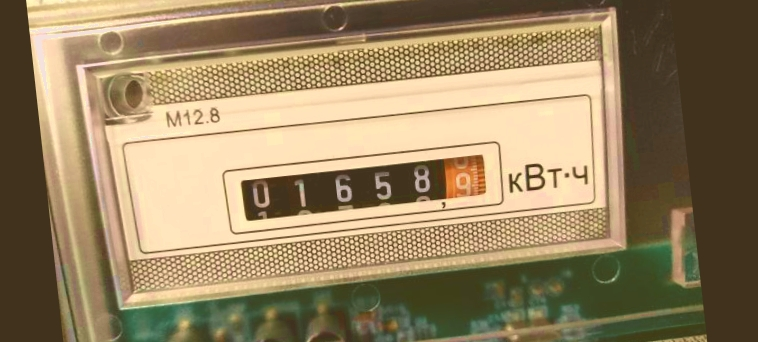0: (248, 175, 273, 209)
1: (292, 175, 309, 207)
5: (372, 167, 394, 201)
6: (332, 170, 355, 203)
8: (411, 161, 433, 195)
9: (452, 168, 472, 196)
screen: (213, 130, 511, 240)
